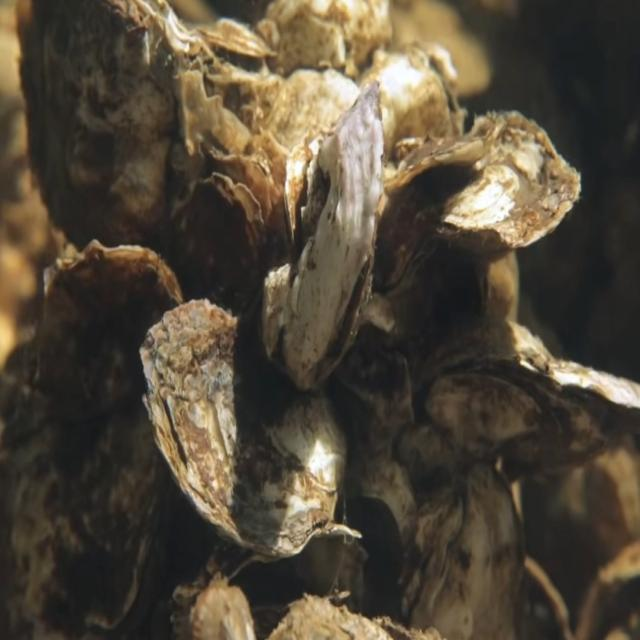Oyster-Closed: (5, 237, 187, 640), (374, 110, 583, 300), (260, 75, 384, 393), (409, 314, 640, 484), (390, 459, 525, 640)
Oyster-Indeterminate: (17, 0, 223, 272), (138, 298, 350, 560), (167, 171, 266, 325)
Oyster-Open: (223, 524, 362, 638)
